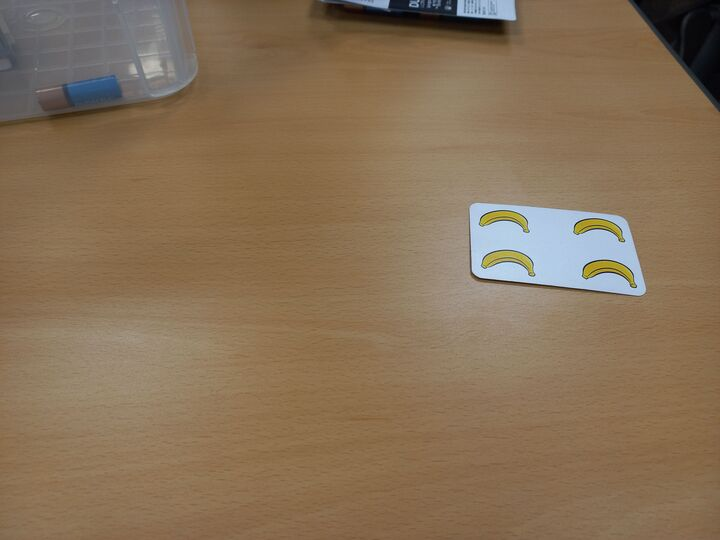banana4: (467, 200, 650, 298)
